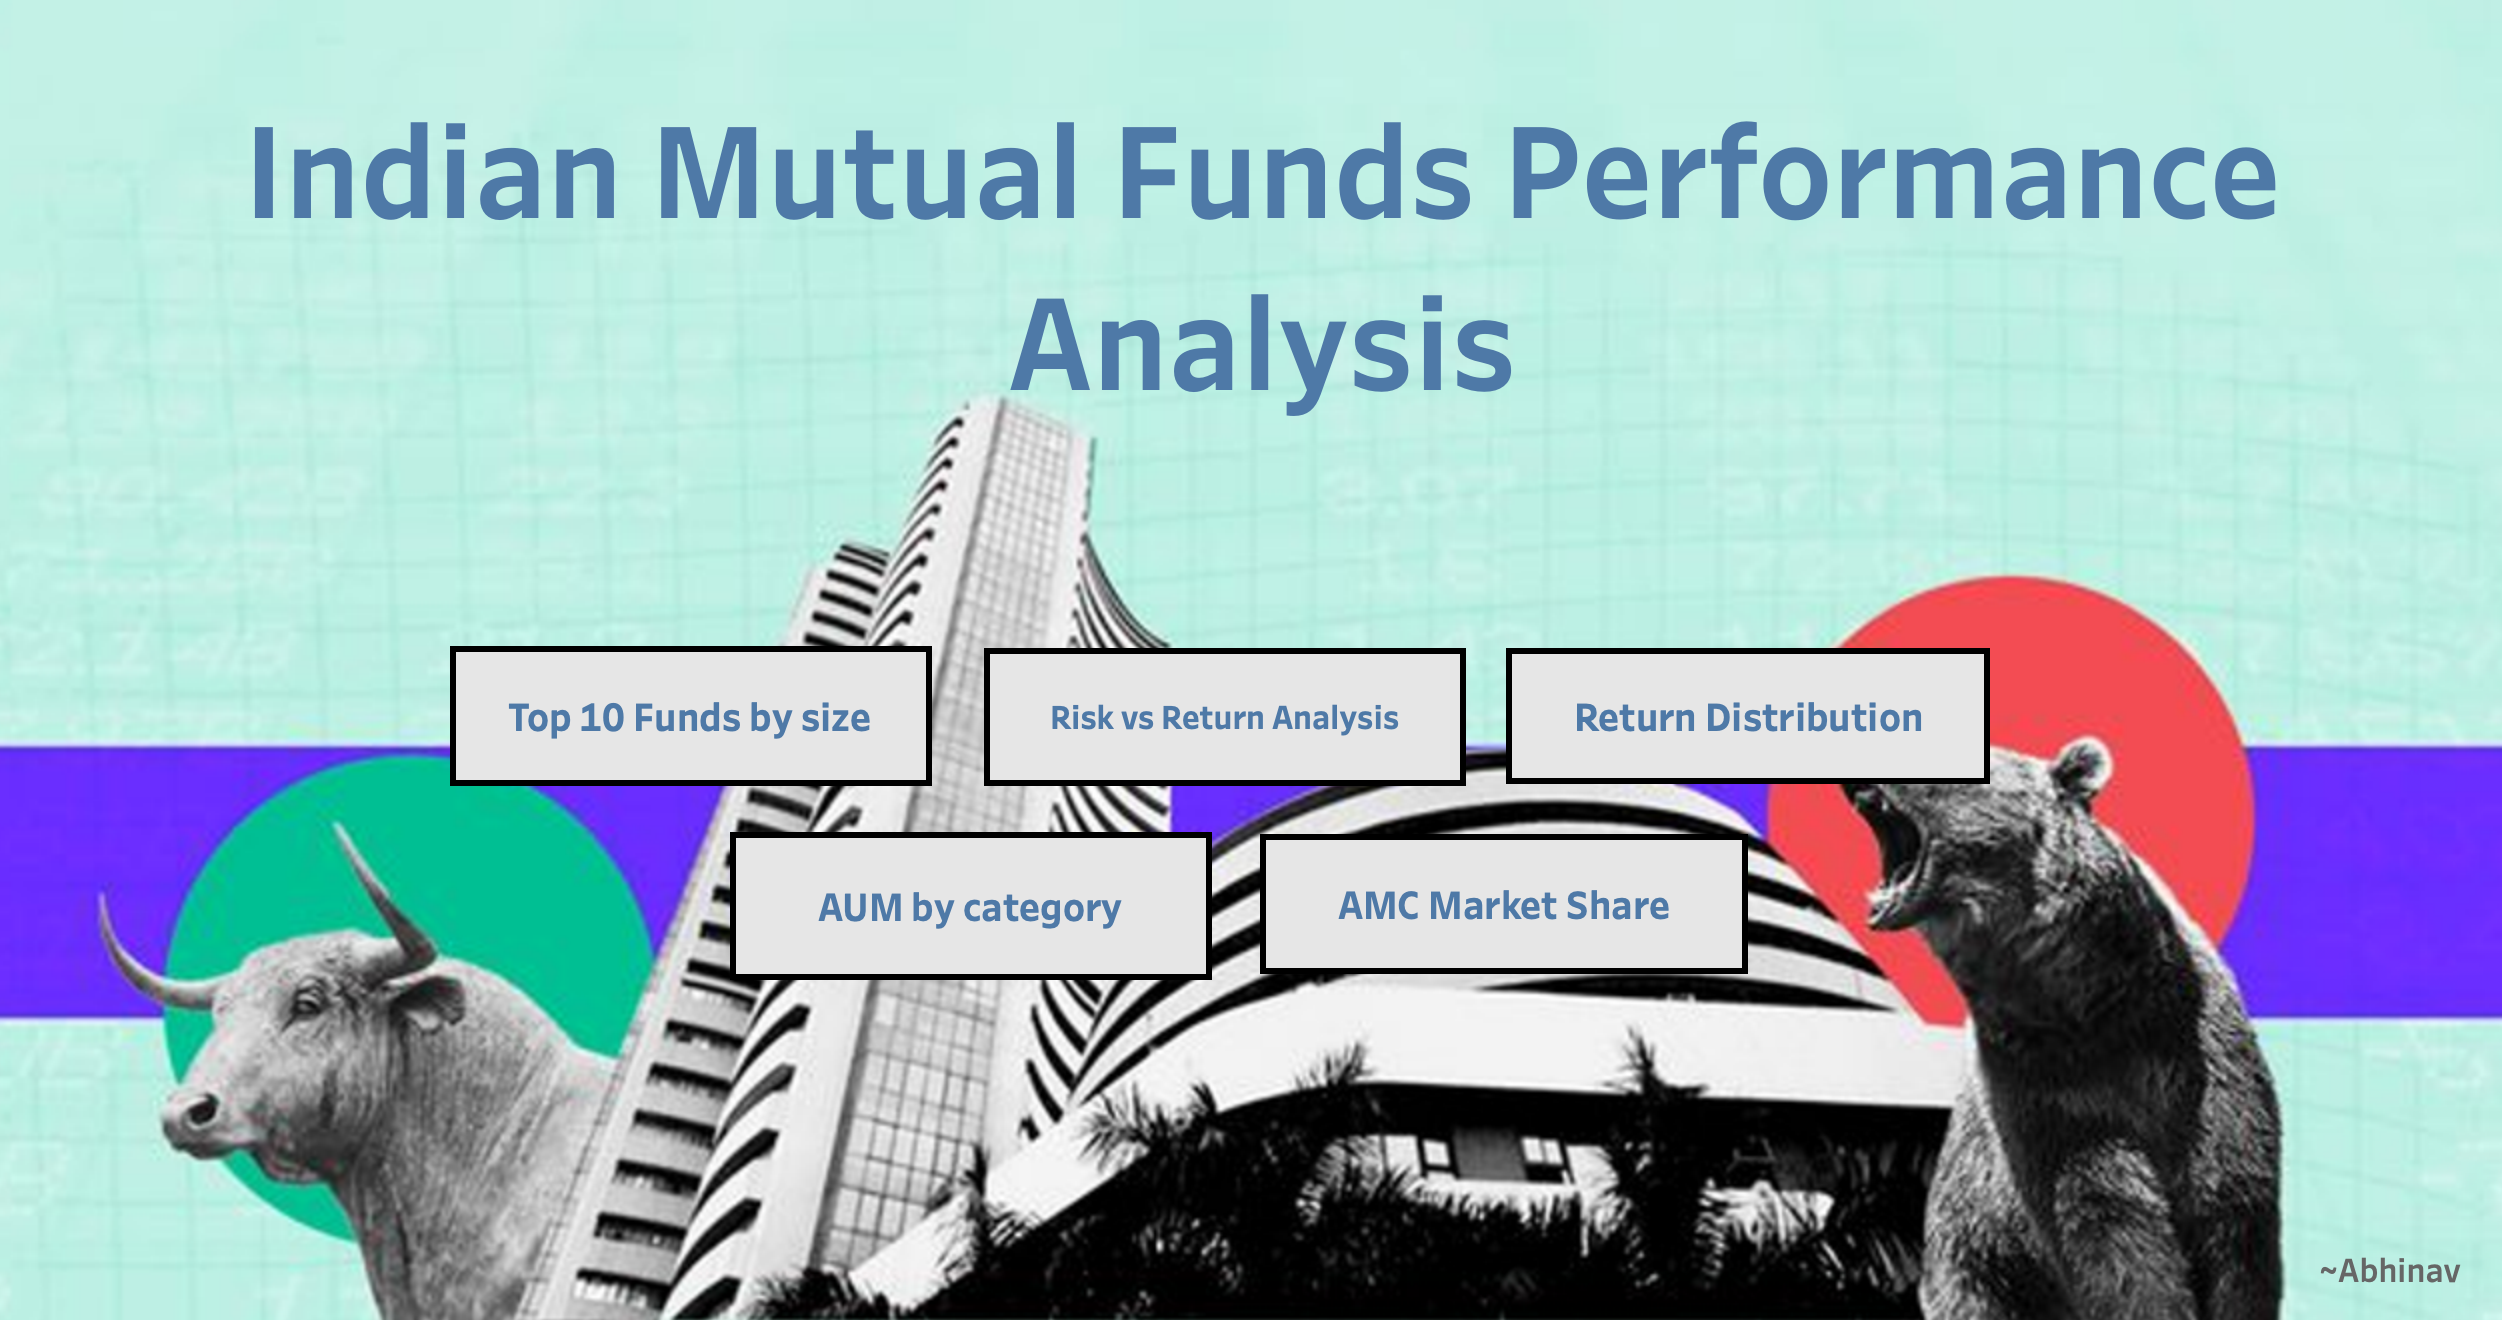

This screenshot's page, from the dashboard's own definition file:
{"tool":"tableau","page":{"name":"First Page","canvas":[1000,1000],"units":"permille","ordinal":0},"visuals":[{"type":"text","box":[6.4,11,987.3,48]},{"type":"text","box":[71.5,57.6,865.8,334.7]},{"type":"dashboard-object","box":[181.9,471.9,191.4,96]},{"type":"dashboard-object","box":[394,473.2,191.4,94.7]},{"type":"dashboard-object","box":[601.3,473.2,192.2,93.3]},{"type":"dashboard-object","box":[293.1,599.5,191.4,101.5]},{"type":"dashboard-object","box":[503.6,600.8,193.8,96]}]}

Visuals, with their boxes on the dashboard's canvas, which has no fixed pixel size, in thousandths of its width and height (x1, y1, x2, y2). These are canvas units, not pixel positions in the 2502x1320 screenshot, which may show the page scaled, cropped or inside an application window:
text: [x1=6, y1=11, x2=994, y2=59]
text: [x1=72, y1=58, x2=937, y2=392]
dashboard-object: [x1=182, y1=472, x2=373, y2=568]
dashboard-object: [x1=394, y1=473, x2=585, y2=568]
dashboard-object: [x1=601, y1=473, x2=794, y2=566]
dashboard-object: [x1=293, y1=600, x2=484, y2=701]
dashboard-object: [x1=504, y1=601, x2=697, y2=697]
